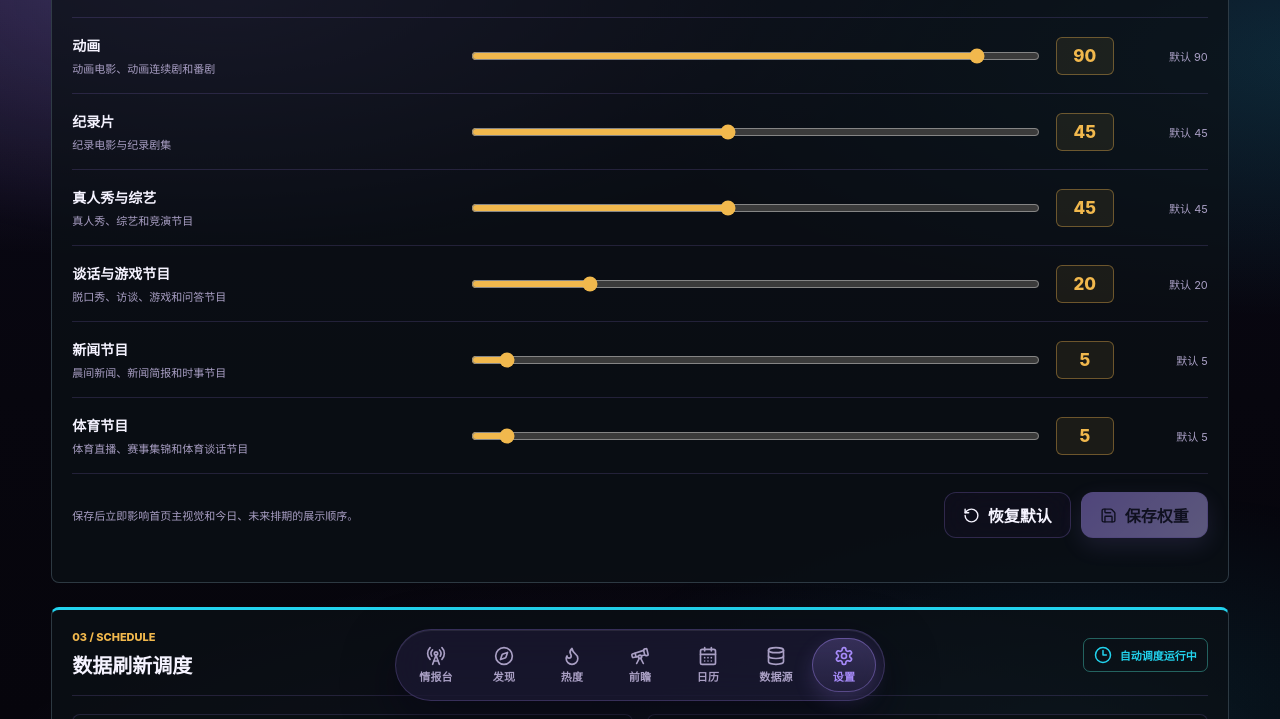
Test: SettingsPage › 调整并保存内容关注权重
(page scrolled)
Set the slider named "新闻节目权重" to "15" at (562, 360), box [471, 352, 1040, 368]
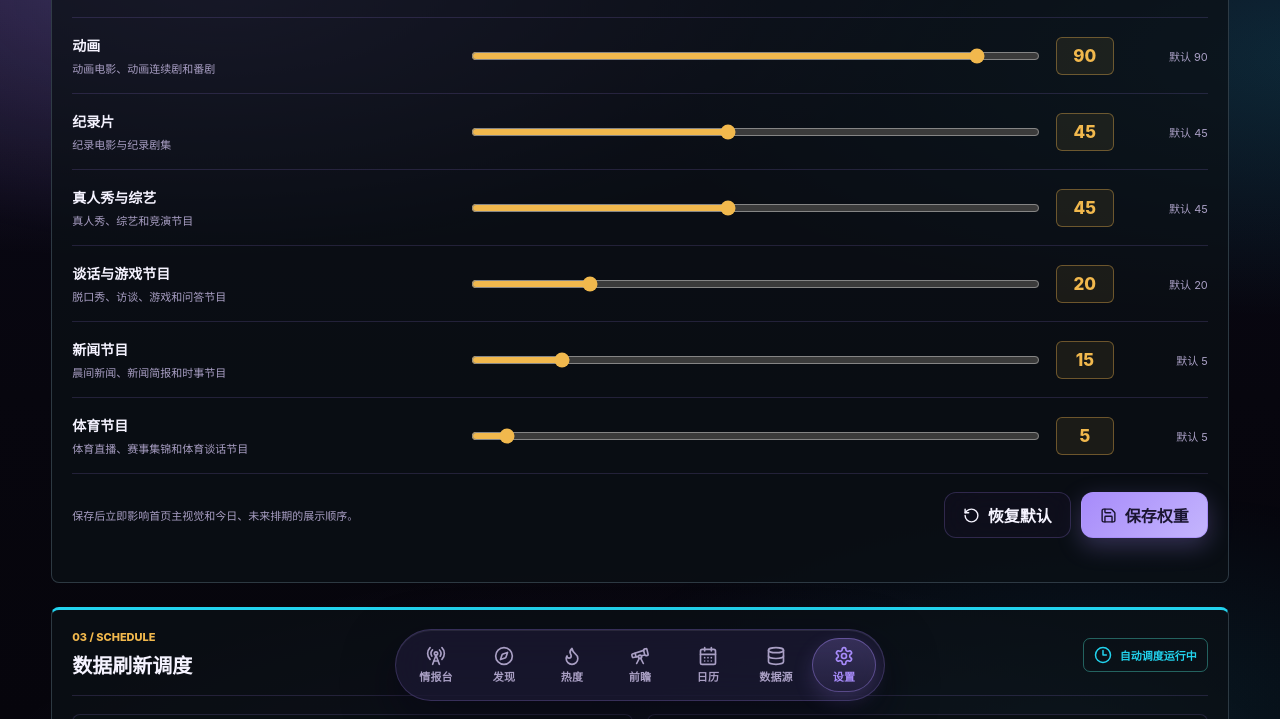
Click the button "保存权重" at (1144, 515), box [1081, 492, 1208, 538]
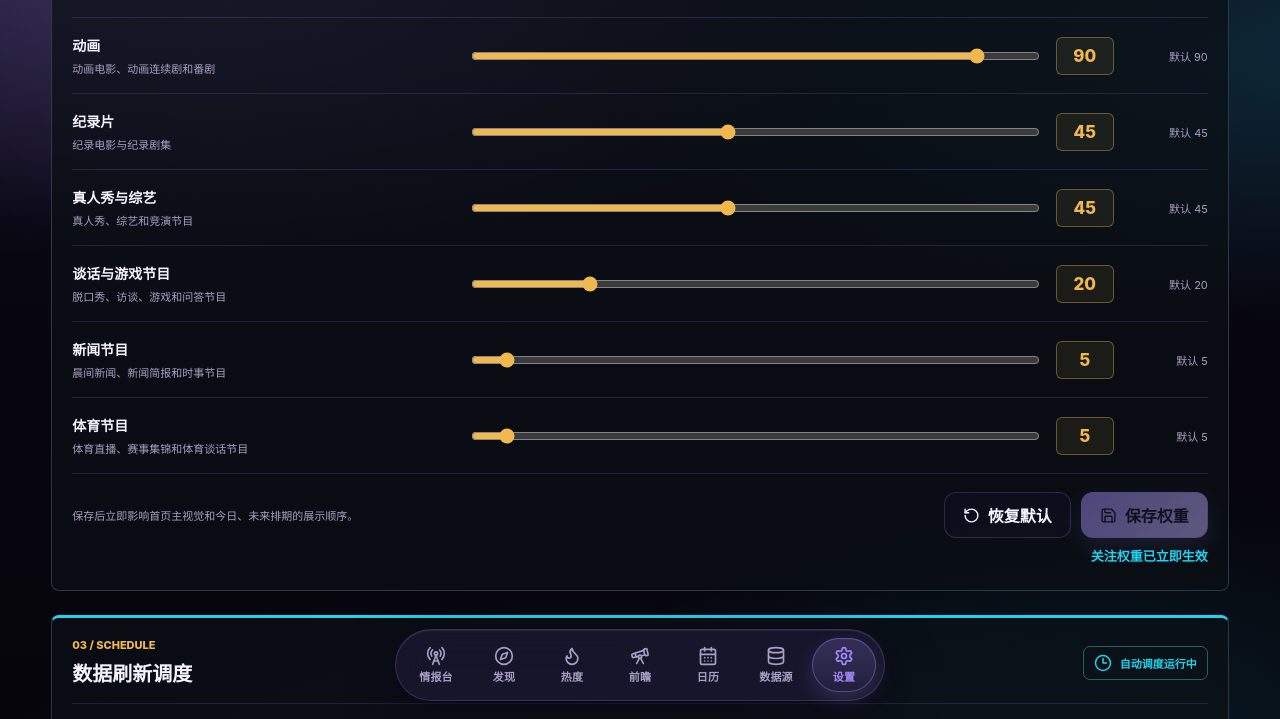
Expected: the text "关注权重已立即生效" is shown, [1091, 548, 1208, 564]
